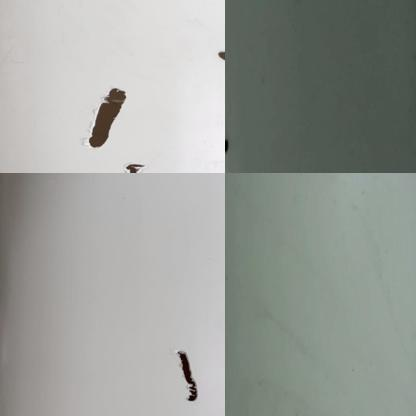fengxi: (85, 79, 126, 152), (174, 338, 202, 407)
kongdong: (121, 162, 146, 173), (214, 47, 228, 63)
